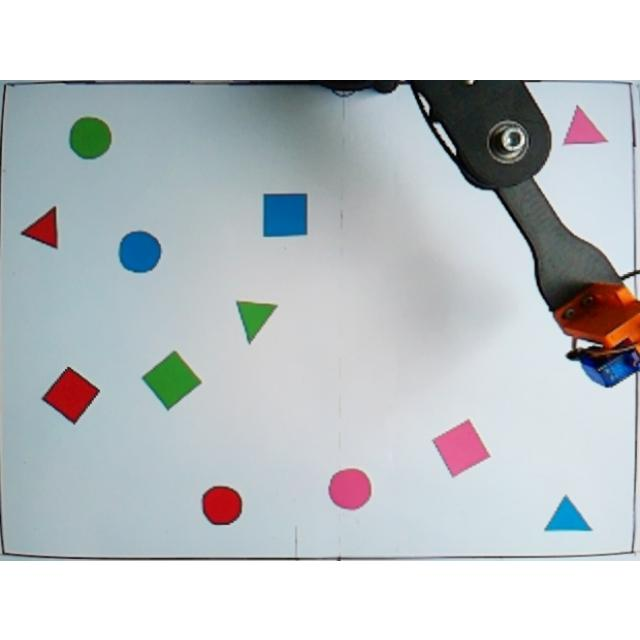blueCircle: (116, 228, 164, 274)
blueSquare: (260, 190, 310, 237)
blueTriangle: (542, 489, 594, 537)
greenCircle: (67, 114, 113, 158)
greenSquare: (138, 348, 204, 410)
greenTriangle: (234, 294, 280, 346)
pinkCircle: (326, 464, 374, 512)
pinkSquare: (428, 417, 492, 478)
pinkTriangle: (560, 102, 610, 148)
redCircle: (200, 482, 244, 530)
redSquare: (38, 364, 102, 424)
redTriangle: (20, 203, 61, 251)
